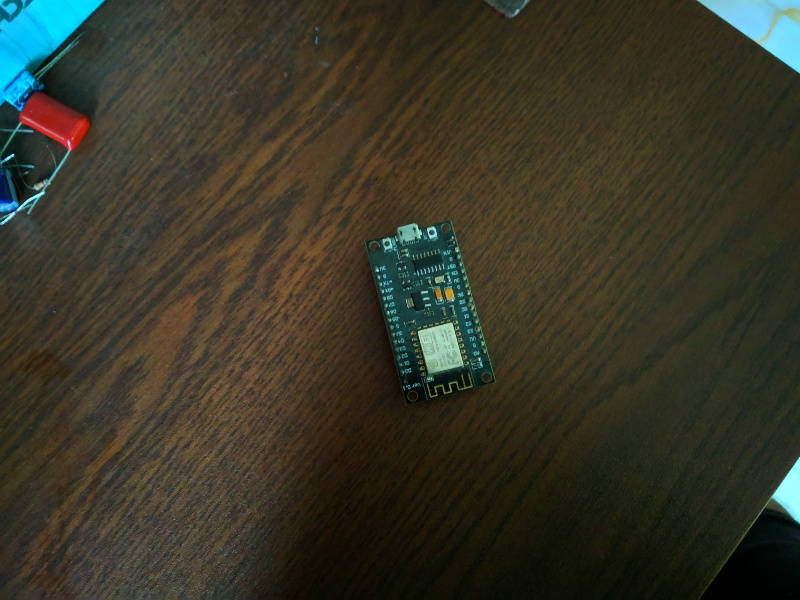NodeMCU: (357, 210, 503, 412)
